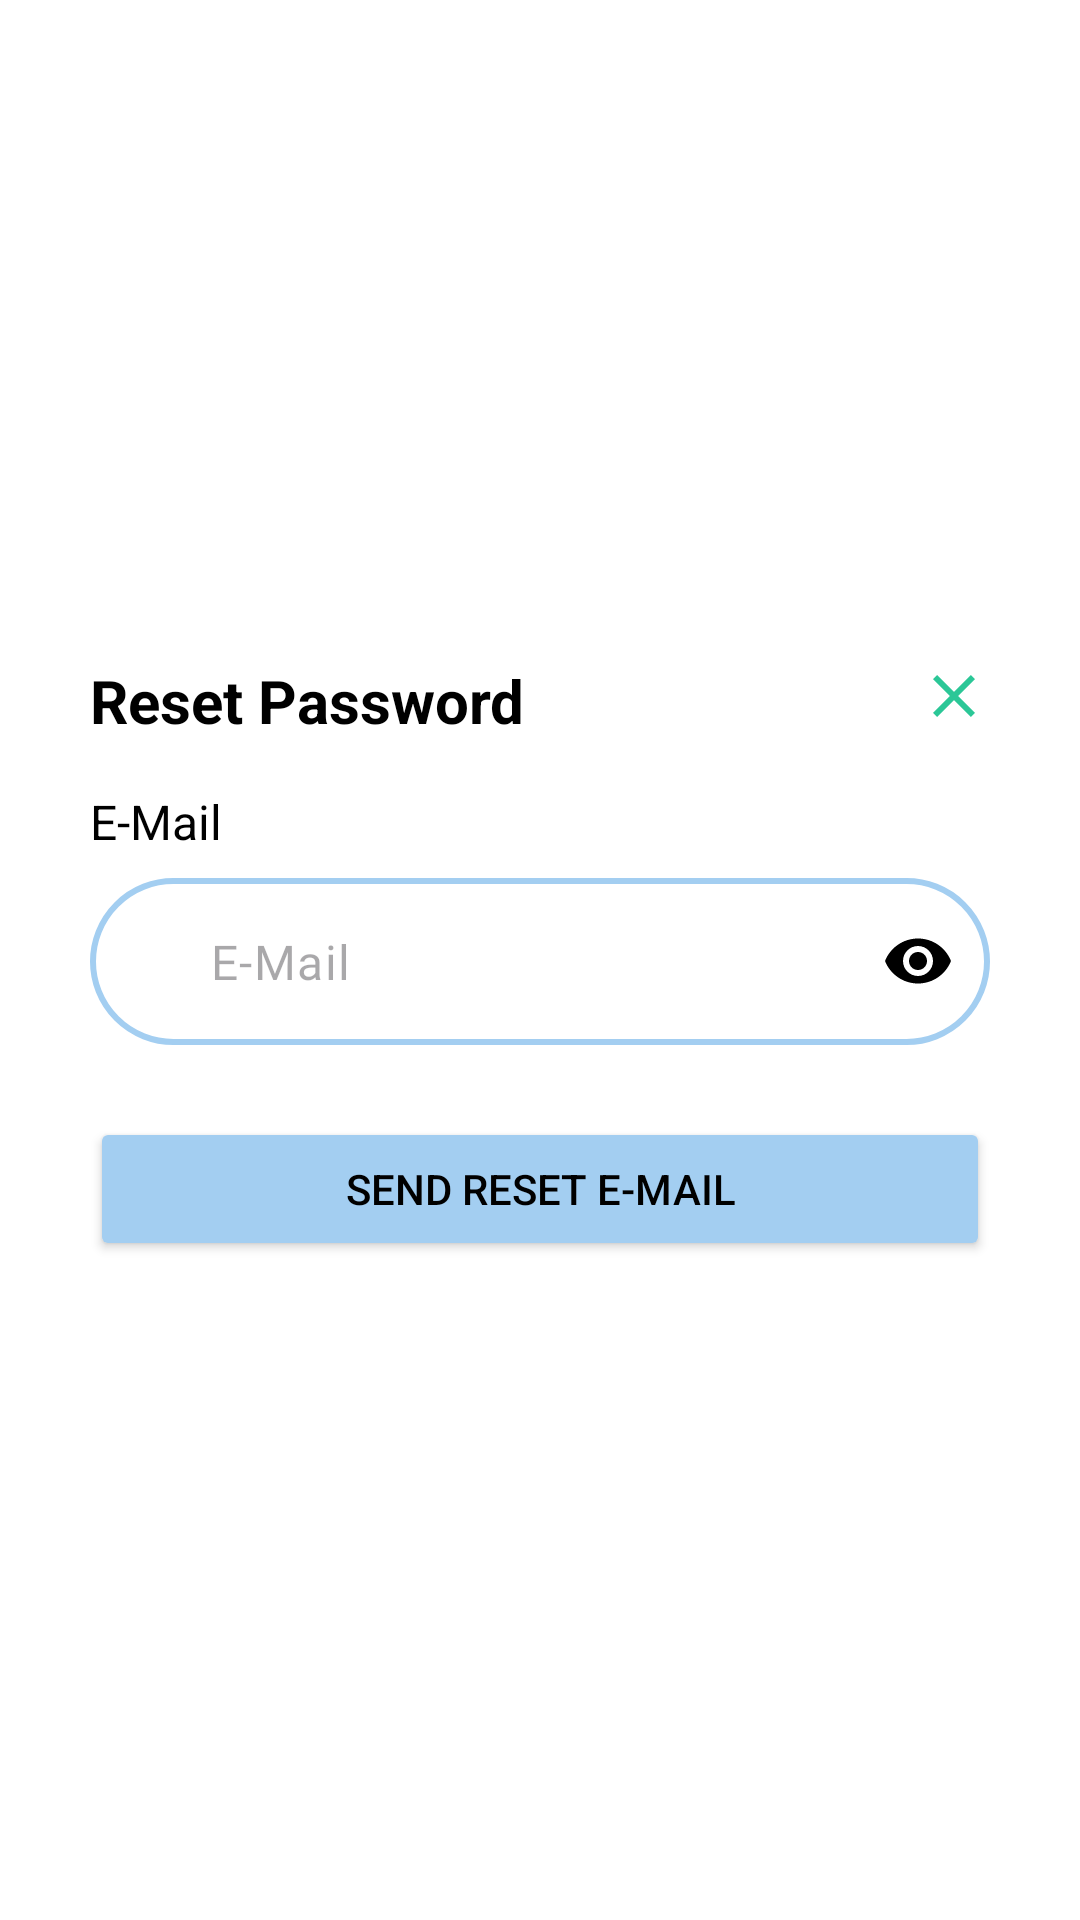

Locate icon controls on the screen. Image size 1080*1920, boxes as (x1, y1, x2, y2).
Close Btn: (933, 675, 975, 717)
